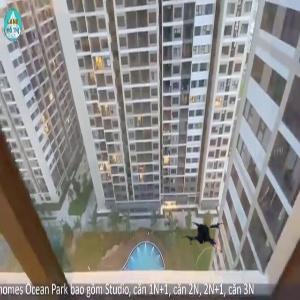drone: (180, 214, 234, 268)
